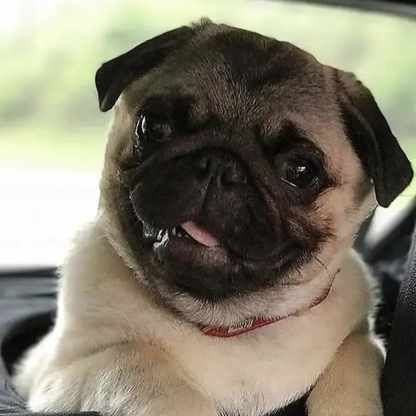Pug: (8, 10, 414, 416)
